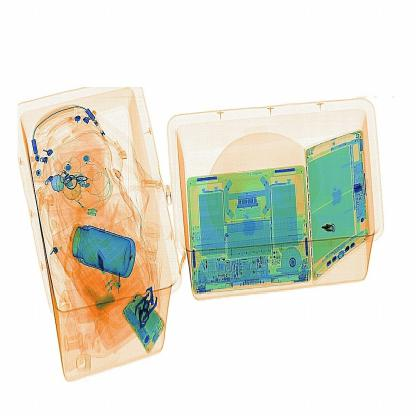wrench: (313, 214, 348, 238)
